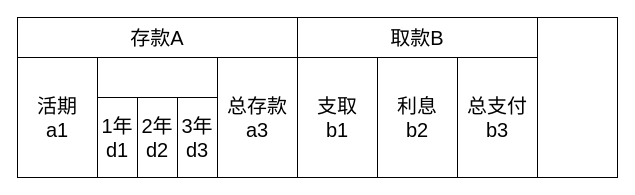
Some shapes in this 635 by 195 pixel diagram are drawn without their labels. Each missing label, with the centre of its shape:
定期D: (x=157, y=77)
进款X: (x=577, y=97)
